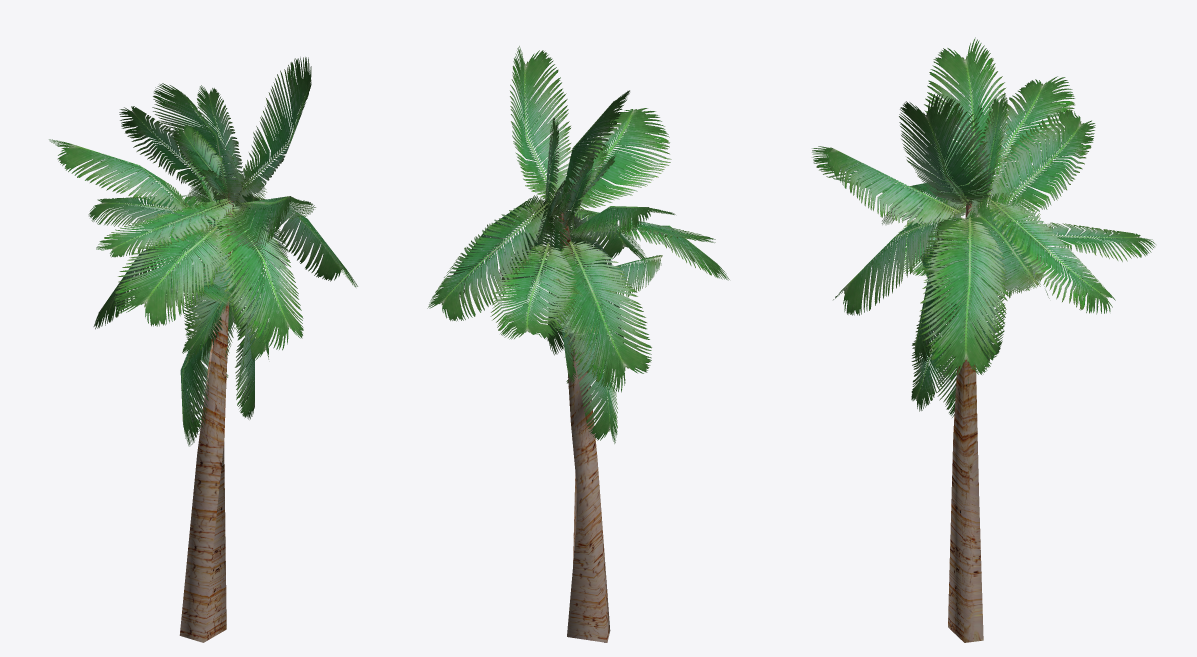
File: palm_tree_2_texta.glb
3 views of the same model, side by side, from view 1: azimuth 30°, elevation 25°; view 2: azimuth 150°, elevation 25°; view 3: azimuth 270°, elevation 25° (orthographic). The views are drawn at different scales.
Parts seen in each view (by area): view 1: jungle_tree_2_leaves.003; view 2: jungle_tree_2_leaves.003; view 3: jungle_tree_2_leaves.003.
Part boxes in pixels (x1,y1,x2,y2): jungle_tree_2_leaves.003: (49, 57, 357, 642); jungle_tree_2_leaves.003: (427, 46, 729, 642); jungle_tree_2_leaves.003: (812, 37, 1155, 642).
Size of the model in its own units: 8.23 by 15 by 8.99.
Materials: 1 (1 with a texture image).
